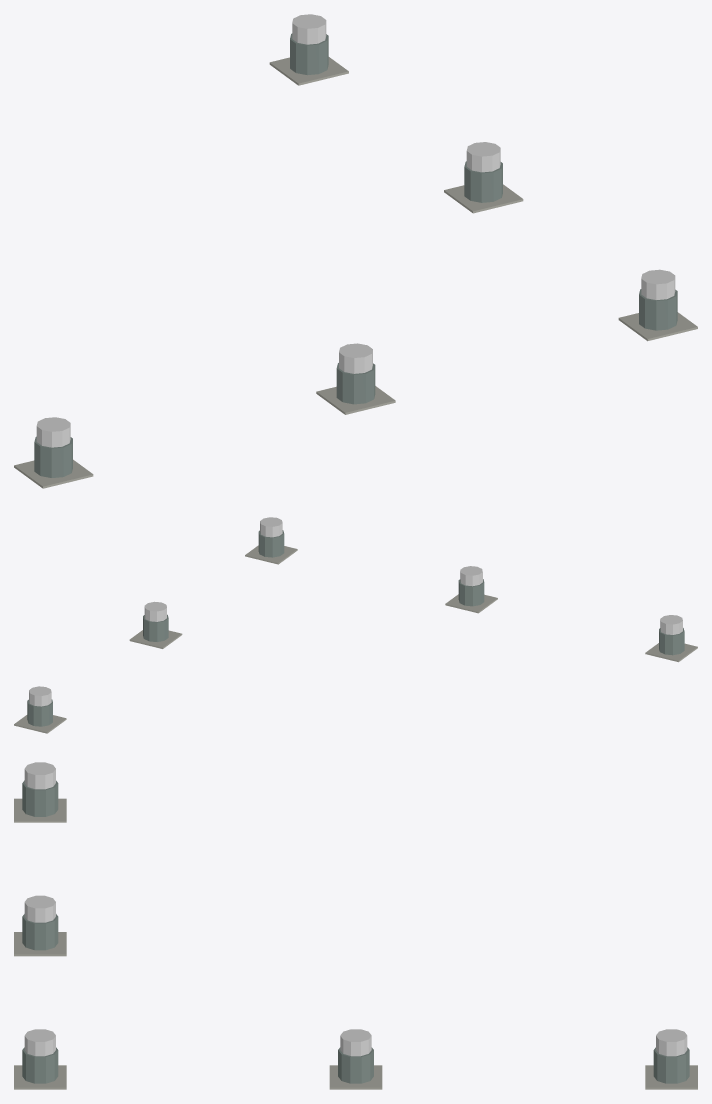
The model's file is SM_Balizas_v2_EnL_LOD0.fbx.
The picture shows the model from 3 angles, top to bottom: view 1: azimuth 30°, elevation 25°; view 2: azimuth 150°, elevation 25°; view 3: azimuth 270°, elevation 25°; orthographic projection. The views are drawn at different scales.
Parts seen in each view (by area): view 1: SM_ambiente_aerodromo_v7_LOD0; view 2: SM_ambiente_aerodromo_v7_LOD0; view 3: SM_ambiente_aerodromo_v7_LOD0.
Part boxes in pixels (left/top/right/bottom): SM_ambiente_aerodromo_v7_LOD0: left=14, top=14, right=697, bottom=488; SM_ambiente_aerodromo_v7_LOD0: left=14, top=517, right=697, bottom=733; SM_ambiente_aerodromo_v7_LOD0: left=14, top=762, right=697, bottom=1089.
Size of the model in its own units: 6.5 by 0.45 by 6.5.
